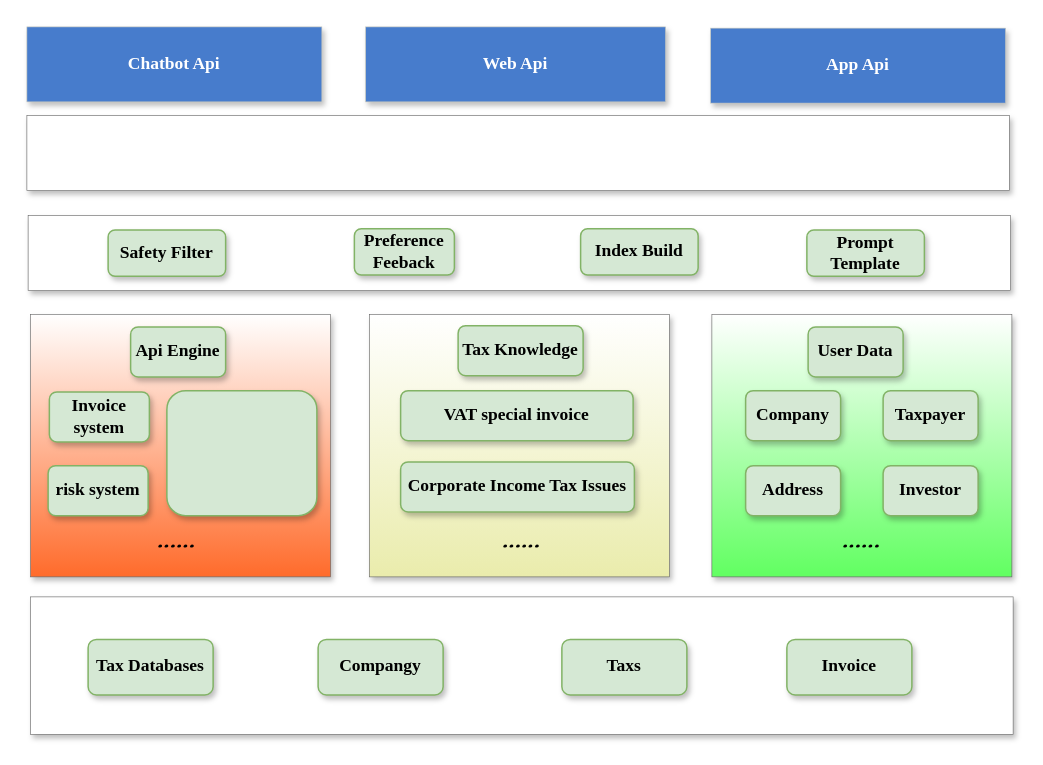
This 1043x765 diagram has some shape labels left out. The shapes that lost their labels are listed below. From the top down, each one's centre as x and y in pixels, then its label:
point 519,154: Large Language Model
point 242,454: Anti-counterfeiting system
